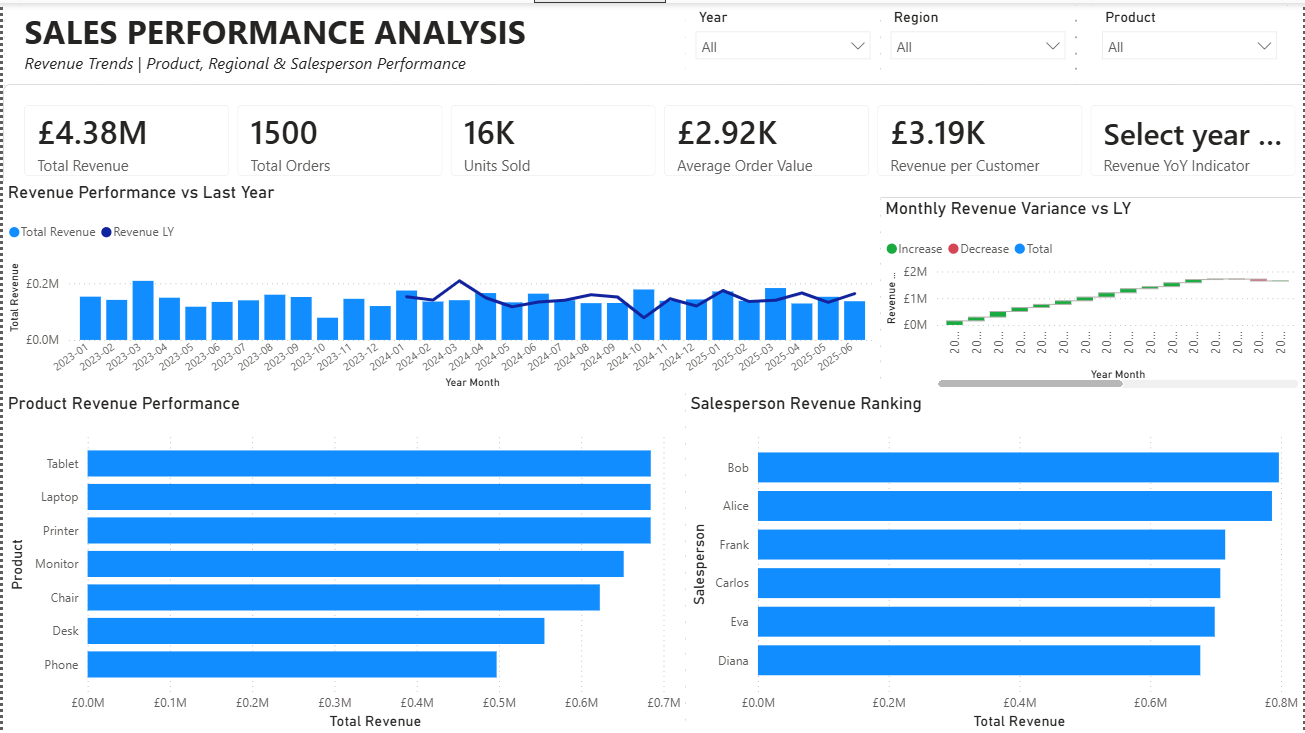

What the dashboard file says about the page in this screenshot:
{"tool":"powerbi","page":{"name":"Sales Performance","canvas":[1280,720],"ordinal":1},"visuals":[{"type":"textbox","box":[16,0,656,80],"z":0},{"type":"slicer","fields":{"Values":["CalendarTable.Year"]},"box":[672,0,192,80],"z":1000},{"type":"slicer","fields":{"Values":["Sales_Data.Region"]},"box":[864,0,192,80],"z":2000},{"type":"slicer","fields":{"Values":["Sales_Data.Product"]},"box":[1072,0,192,80],"z":3000},{"type":"cardVisual","fields":{"Data":["_Measures.Total Revenue","_Measures.Total Orders","_Measures.Units Sold","_Measures.Average Order Value","_Measures.Revenue per Customer","_Measures.Revenue YoY Indicator"]},"box":[0,80,1296,112],"z":4000},{"type":"lineClusteredColumnComboChart","title":"Revenue Performance vs Last Year","fields":{"Category":["CalendarTable.Year Month"],"Y":["_Measures.Total Revenue"],"Y2":["_Measures.Revenue LY"]},"box":[0,176,864,208],"z":5000},{"type":"waterfallChart","title":"Monthly Revenue Variance vs LY","fields":{"Category":["CalendarTable.Year Month"],"Y":["_Measures.Revenue YoY Change"]},"box":[864,192,416,192],"z":6000},{"type":"clusteredBarChart","title":"Product Revenue Performance","fields":{"Category":["Sales_Data.Product"],"Y":["_Measures.Total Revenue"]},"box":[0,384,672,336],"z":7000},{"type":"clusteredBarChart","title":"Salesperson Revenue Ranking","fields":{"Category":["Sales_Data.Salesperson"],"Y":["_Measures.Total Revenue"]},"box":[672,384,608,336],"z":8000}]}

Visuals, with their boxes in screenshot pixels (x1, y1, x2, y2), scaled from the page's 1280x720 canvas onto the 1305x733 screenshot:
textbox: 16:0:685:81
slicer - CalendarTable.Year: 685:0:881:81
slicer - Sales_Data.Region: 881:0:1077:81
slicer - Sales_Data.Product: 1093:0:1289:81
cardVisual - _Measures.Total Revenue x _Measures.Total Orders: 0:81:1304:195
"Revenue Performance vs Last Year" lineClusteredColumnComboChart: 0:179:881:391
"Monthly Revenue Variance vs LY" waterfallChart: 881:195:1304:391
"Product Revenue Performance" clusteredBarChart: 0:391:685:732
"Salesperson Revenue Ranking" clusteredBarChart: 685:391:1304:732
